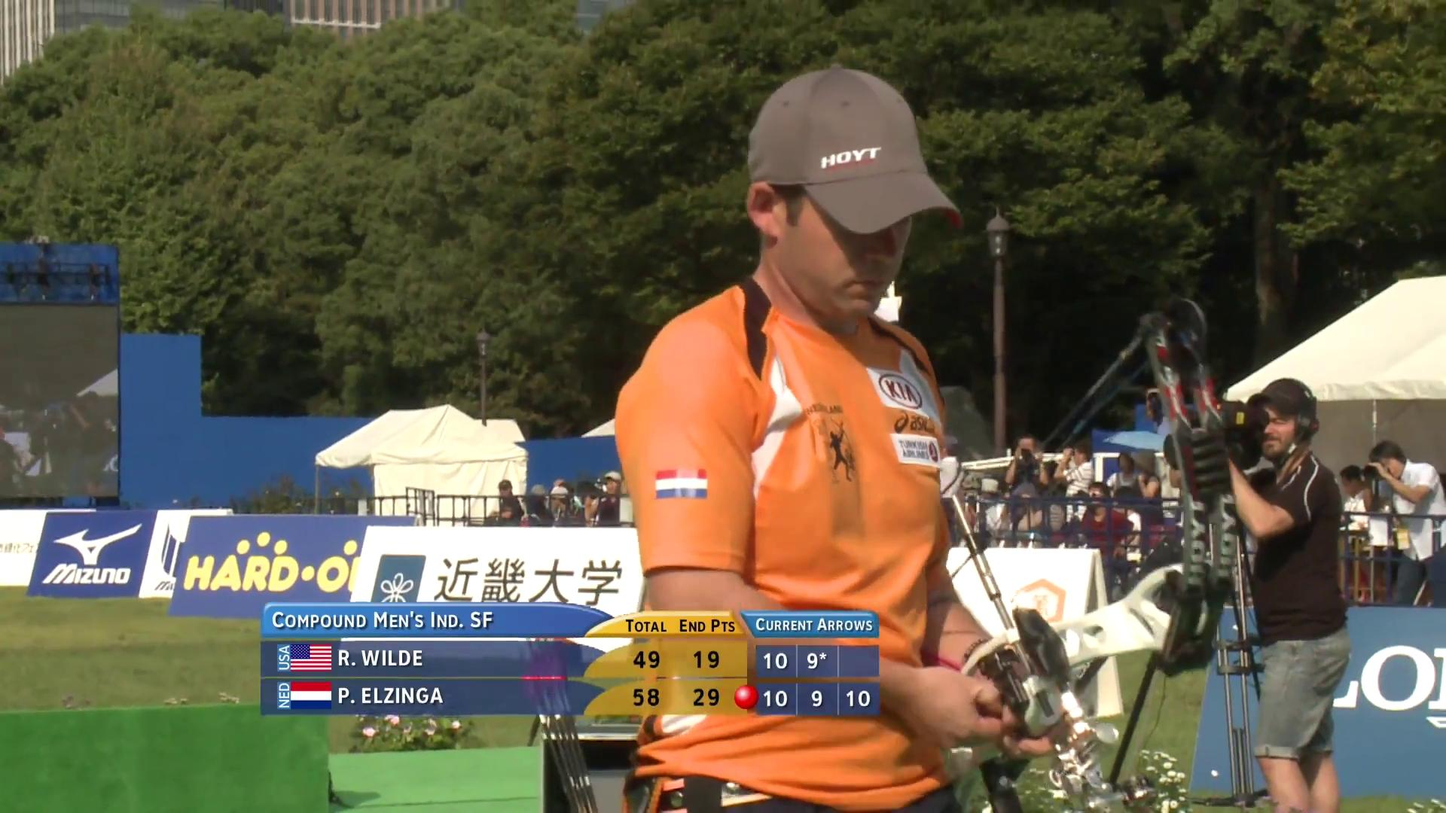victim: (604, 55, 1098, 809), (1217, 376, 1352, 812), (1353, 435, 1446, 606), (996, 424, 1048, 542)
